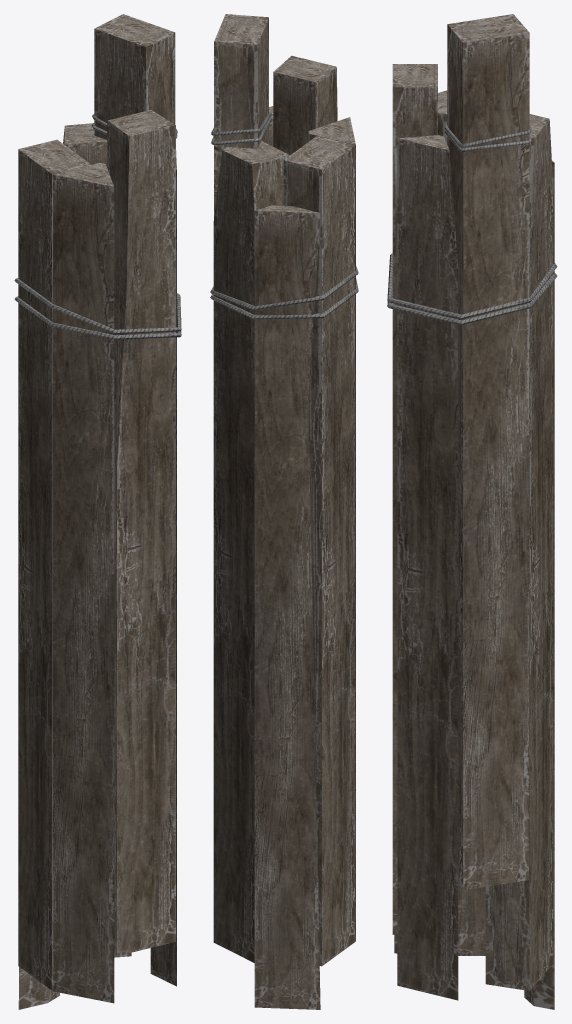
The model's file is SM_WoodPlank03.FBX.
3 views of the same model, side by side, from view 1: azimuth 30°, elevation 25°; view 2: azimuth 150°, elevation 25°; view 3: azimuth 270°, elevation 25° (orthographic). The views are drawn at different scales.
Parts seen in each view (by area): view 1: SM_WoodPlank03; view 2: SM_WoodPlank03; view 3: SM_WoodPlank03.
Part boxes in pixels (x1,y1,x2,y2): SM_WoodPlank03: (14, 14, 181, 1009); SM_WoodPlank03: (210, 14, 358, 1009); SM_WoodPlank03: (387, 14, 557, 1009).
Size of the model in its own units: 86.37 by 91 by 593.
